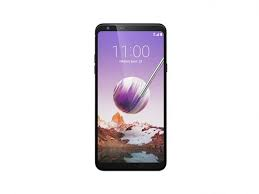lg: (91, 18, 170, 173)
